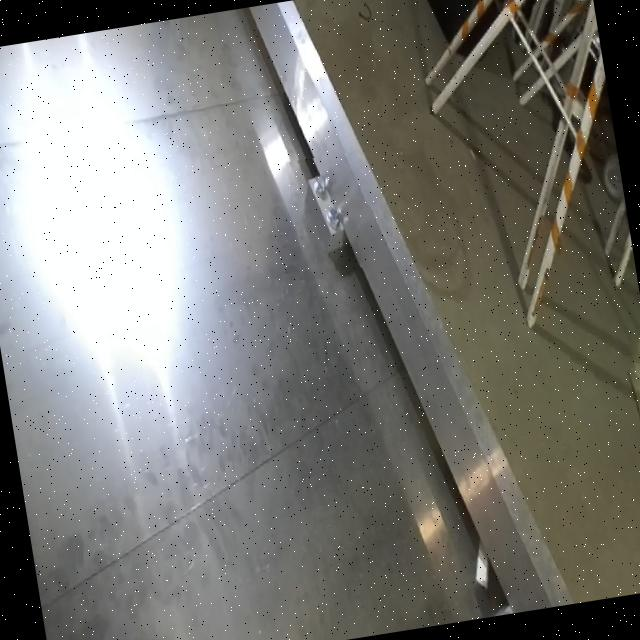blocks: (286, 151, 379, 277), (466, 568, 552, 620)
